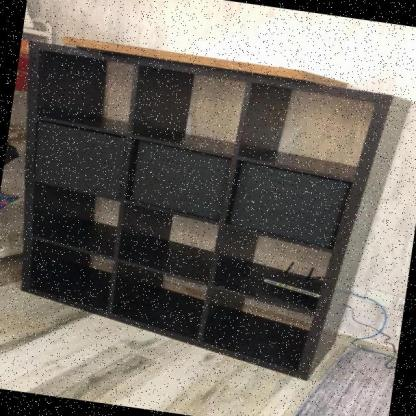Shelf: (0, 33, 416, 397)
